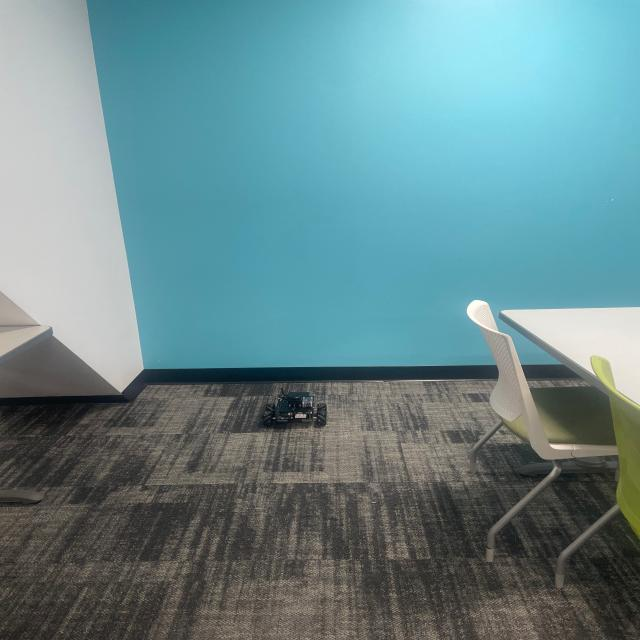ArduinoCar3: (256, 382, 331, 432)
